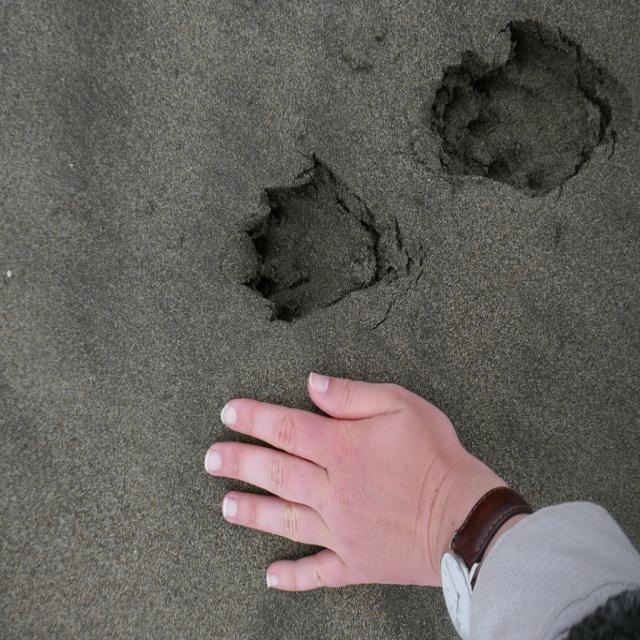mustelid: (241, 151, 382, 328)
